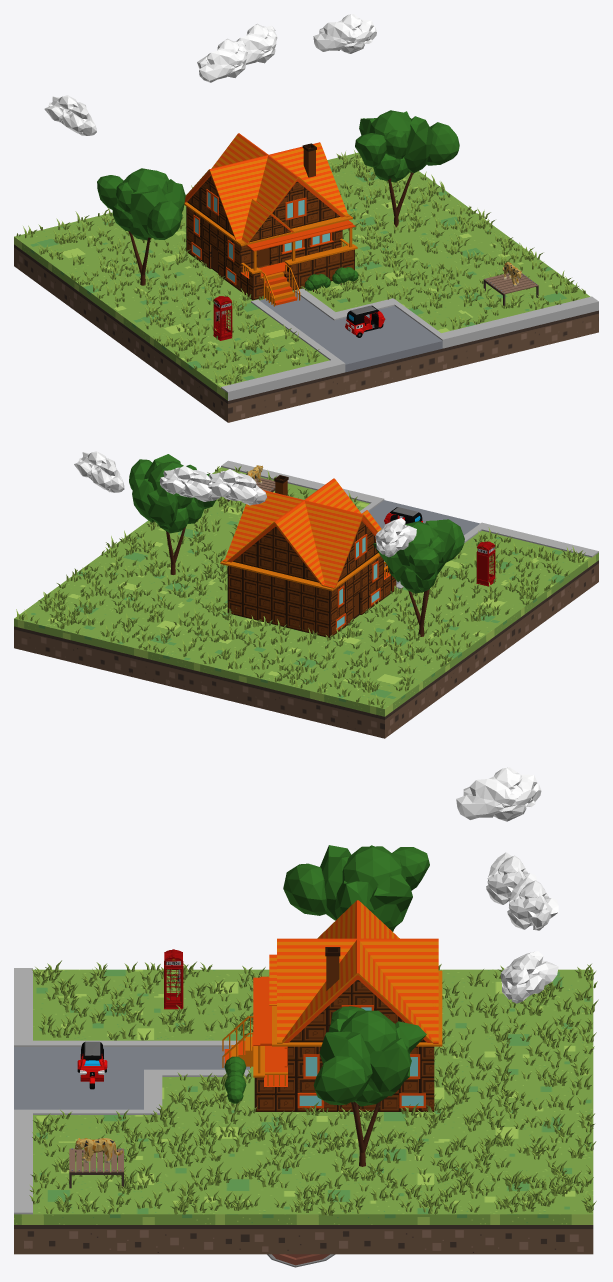
The picture shows the model from 3 angles, top to bottom: view 1: azimuth 30°, elevation 25°; view 2: azimuth 150°, elevation 25°; view 3: azimuth 270°, elevation 25°; orthographic projection. The views are drawn at different scales.
Parts seen in each view (by area): view 1: Cube.006, Cube, Circle.012_Grass_0.192, Cube.007, tree, tree.001, VEHICLES_TUC_TUC, OBJRANDOM_PHONEBOOTH, Cube.009; view 2: Cube.006, Cube, Circle.012_Grass_0.192, Cube.007, tree.001, tree, OBJRANDOM_PHONEBOOTH, VEHICLES_TUC_TUC; view 3: Cube.006, Circle.012_Grass_0.192, Cube, tree, Cube.007, tree.001, Cube.009, VEHICLES_TUC_TUC, OBJRANDOM_PHONEBOOTH, ANIMAL_JAGUAR.
Part boxes in pixels (box(x1,y1,x2,y2)): Cube.006: box(14, 152, 598, 422); Cube: box(184, 133, 357, 306); Circle.012_Grass_0.192: box(16, 150, 585, 384); Cube.007: box(44, 14, 376, 135); tree: box(355, 110, 459, 227); tree.001: box(97, 168, 185, 285); VEHICLES_TUC_TUC: box(345, 305, 385, 337); OBJRANDOM_PHONEBOOTH: box(213, 296, 232, 340); Cube.009: box(483, 273, 538, 305); Cube.006: box(14, 460, 598, 738); Cube: box(220, 475, 396, 637); Circle.012_Grass_0.192: box(16, 466, 585, 708); Cube.007: box(74, 451, 416, 557); tree.001: box(373, 519, 464, 636); tree: box(129, 454, 215, 574); OBJRANDOM_PHONEBOOTH: box(476, 541, 495, 586); VEHICLES_TUC_TUC: box(384, 507, 422, 524); Cube.006: box(14, 968, 593, 1254); Circle.012_Grass_0.192: box(29, 960, 598, 1215); Cube: box(222, 900, 442, 1111); tree: box(313, 1006, 426, 1166); Cube.007: box(456, 767, 558, 1003); tree.001: box(283, 845, 429, 931); Cube.009: box(69, 1148, 123, 1188); VEHICLES_TUC_TUC: box(77, 1041, 107, 1089); OBJRANDOM_PHONEBOOTH: box(164, 949, 183, 1009); ANIMAL_JAGUAR: box(75, 1138, 122, 1163).
Size of the model in its own units: 4071 by 2892 by 4040.
47 materials, 4 textured.
